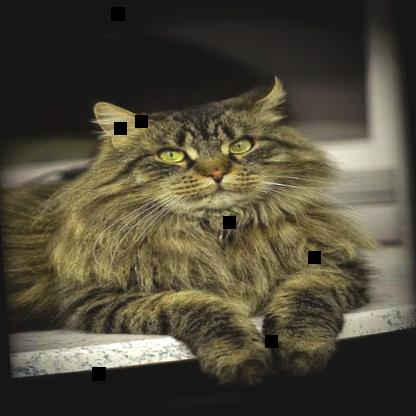cat: (0, 68, 378, 402)
